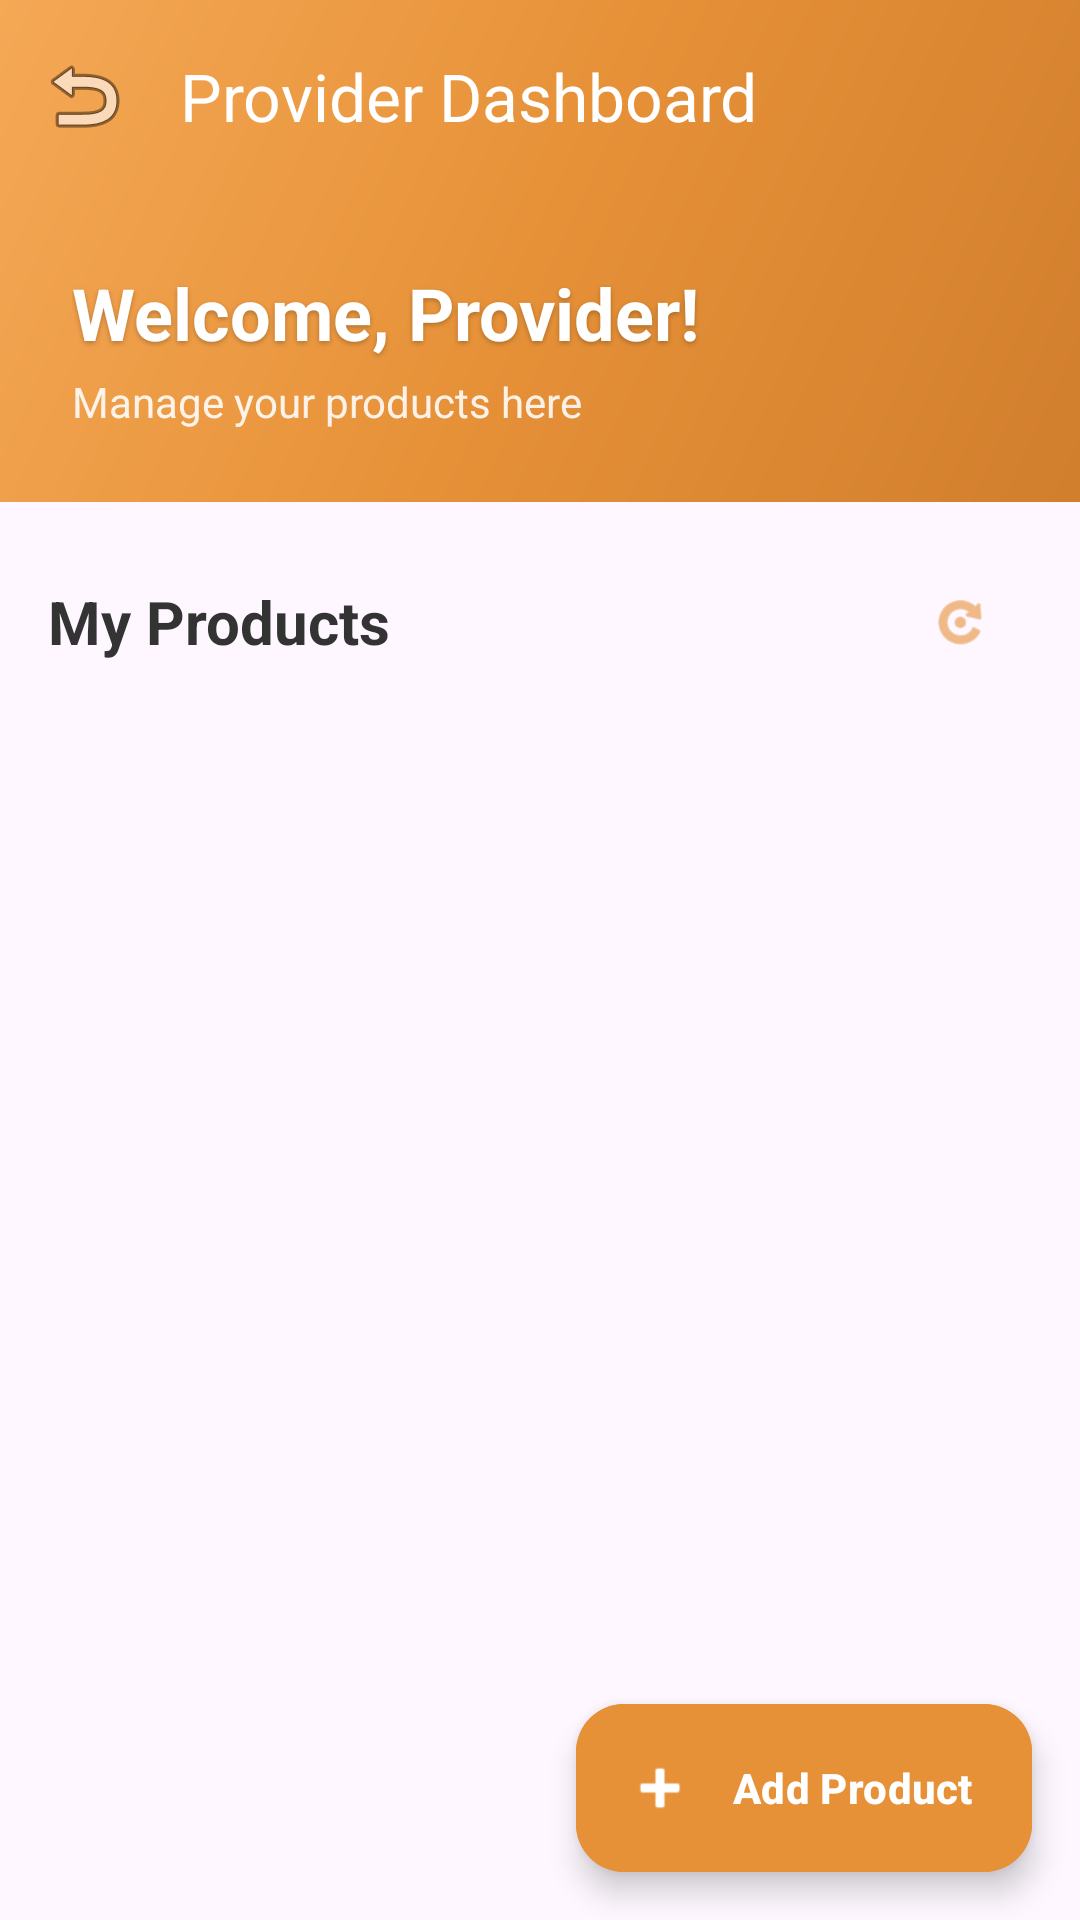

Icons on this 1080w x 1920h Android screen, each with the point to tap as (x,y):
Refresh products: (960,622)
